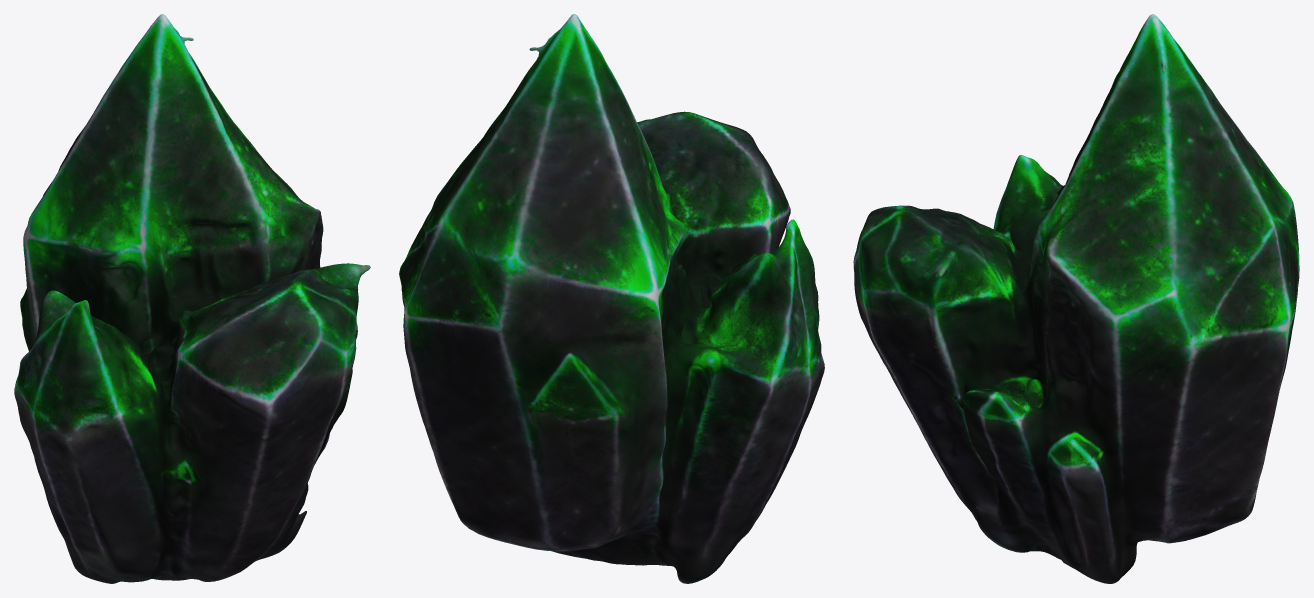
File: 9c78a4879ba6_Glowing_green_cryst.fbx
3 views of the same model, side by side, from view 1: azimuth 30°, elevation 25°; view 2: azimuth 150°, elevation 25°; view 3: azimuth 270°, elevation 25° (orthographic). The views are drawn at different scales.
Parts seen in each view (by area): view 1: high_poly; view 2: high_poly; view 3: high_poly.
Boxes of the visible parts, x1,y1,x2,y2 form: high_poly: (14, 14, 370, 583); high_poly: (399, 14, 824, 583); high_poly: (853, 14, 1299, 583).
Bounding box in the file's own units: 62.19 × 100 × 73.74.
